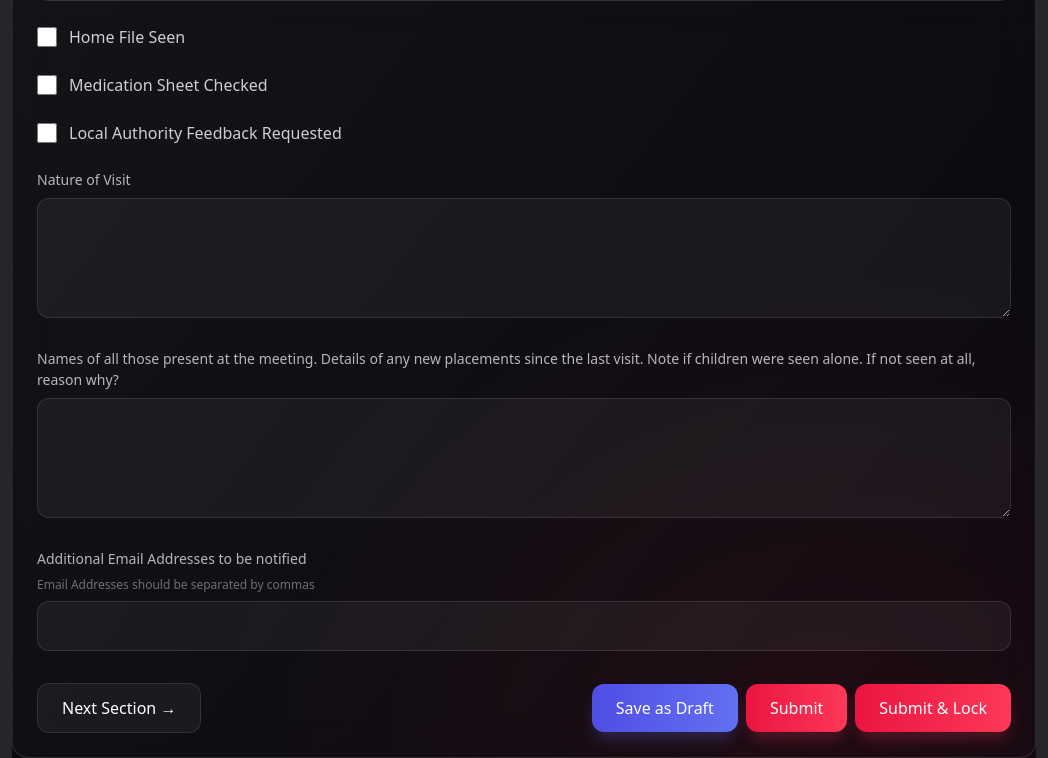
Test: DynamicForm › shows validation errors for required fields
(page scrolled)
// Try to submit without filling required fields
Click the button "Save as Draft".
click(665, 708)  # box [592,684,738,732]
(page scrolled)
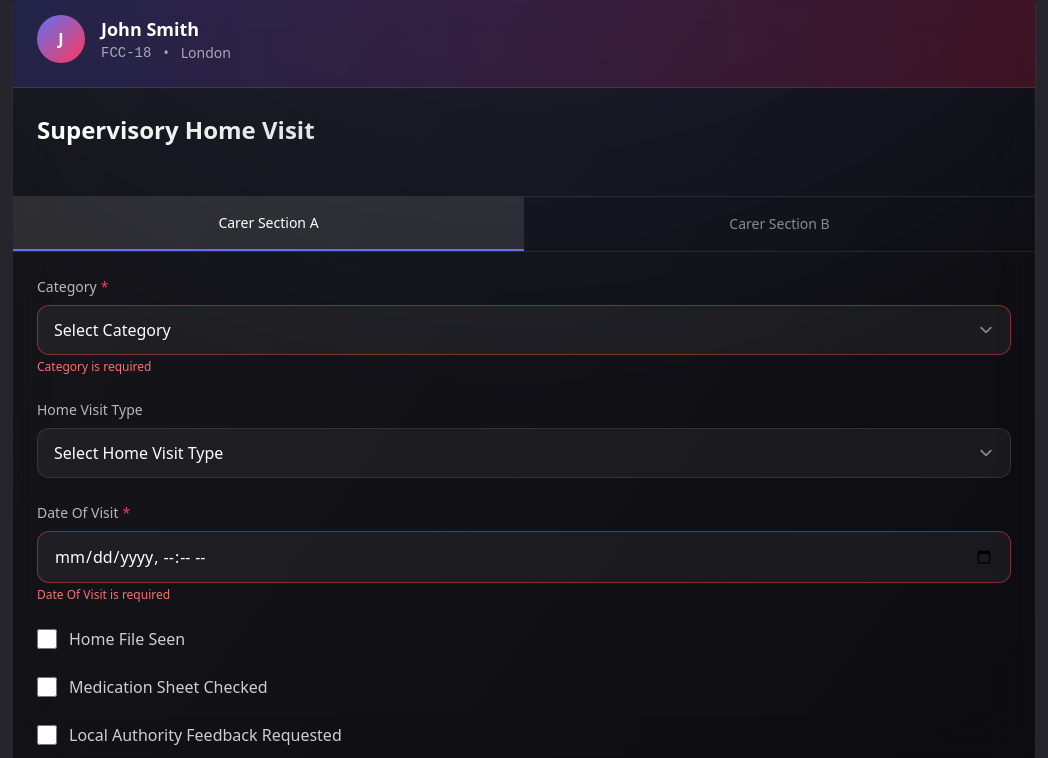
Result: the text "Category is required" is shown at [37,358,152,375]
